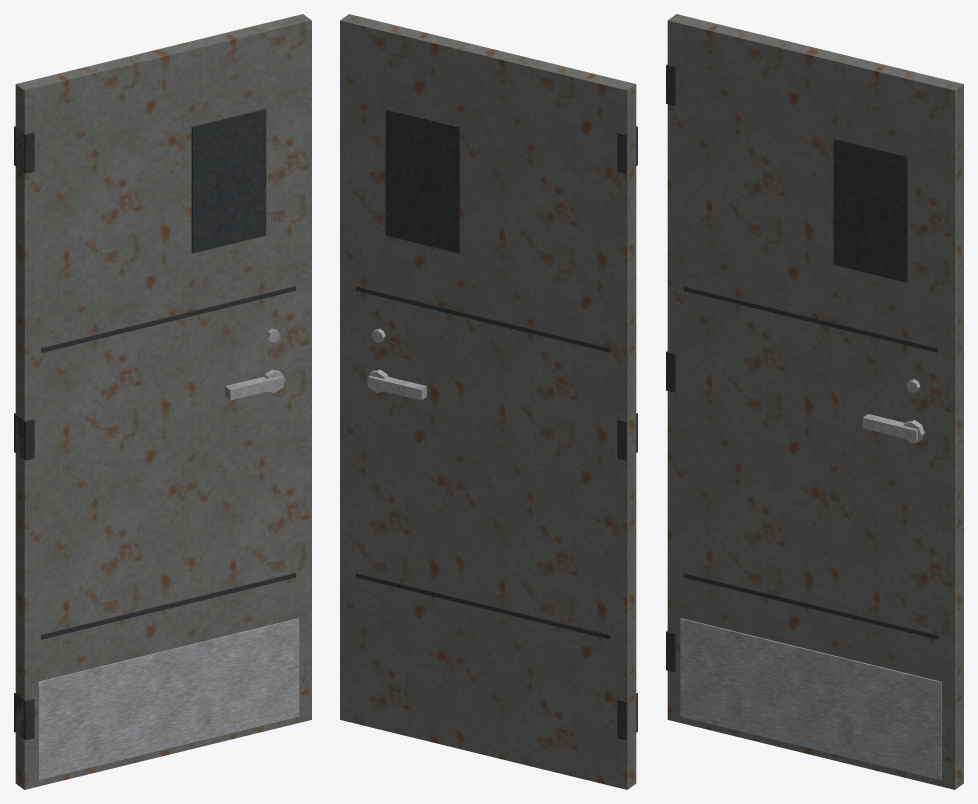
File: door_steel.glb
The picture shows the model from 3 angles, left to right: view 1: azimuth 30°, elevation 25°; view 2: azimuth 150°, elevation 25°; view 3: azimuth 330°, elevation 25°; orthographic projection.
Visible parts, largest first — view 1: door_steel; view 2: door_steel; view 3: door_steel.
Part boxes in pixels (left/top/right/bottom): door_steel: left=14, top=14, right=311, bottom=789; door_steel: left=340, top=14, right=637, bottom=789; door_steel: left=666, top=14, right=963, bottom=789.
Bounding box in the file's own units: 0.86 × 2 × 0.102.
Materials: 4 (4 with a texture image).
